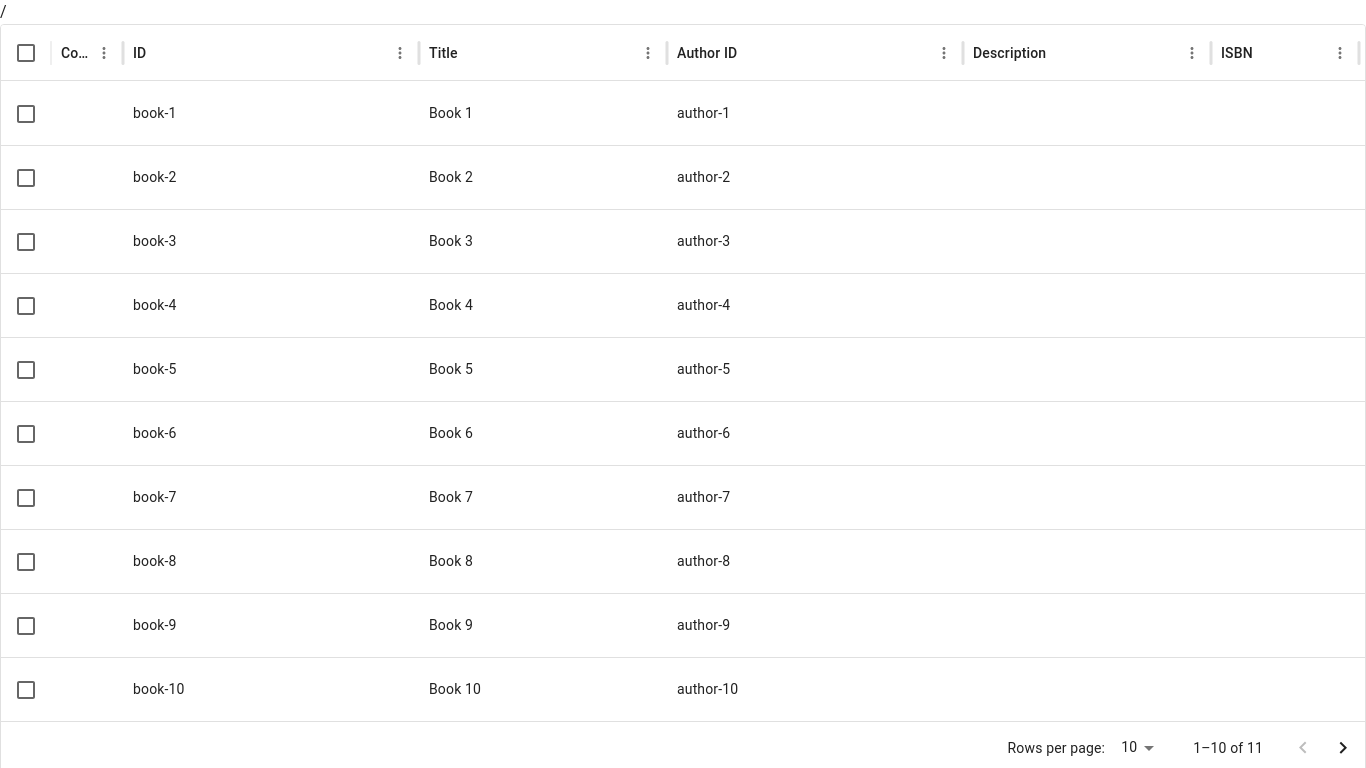
it: BooksTable › row selection › selects only the rows on the current page when selecting all
This screenshot has width=1366, height=768.
expect the text "Book 1" is shown: met, box [429,105,473,121]
Click the checkbox named "Select all rows". click: point(26, 52)
box: [14,40,38,64]
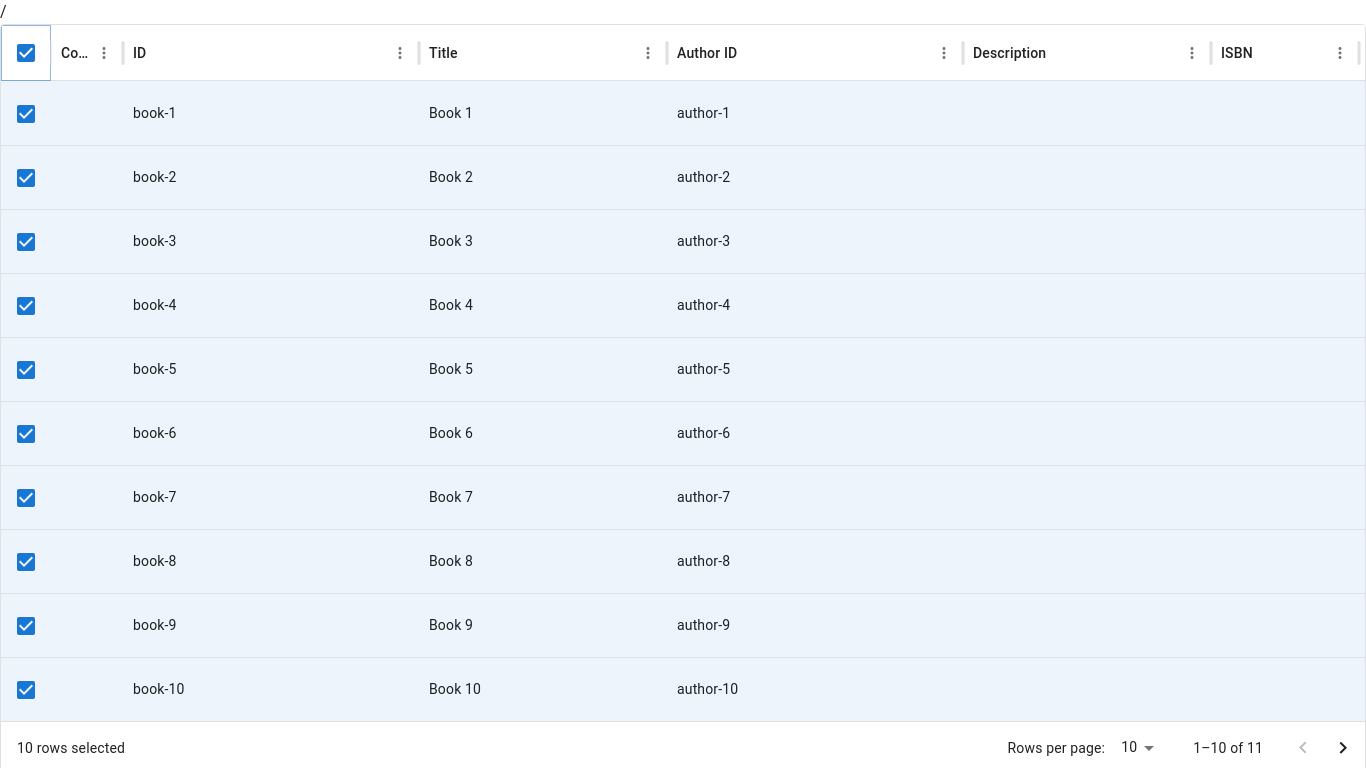
Click the button named "Go to next page". click: point(1343, 748)
box: [1323,728,1363,767]
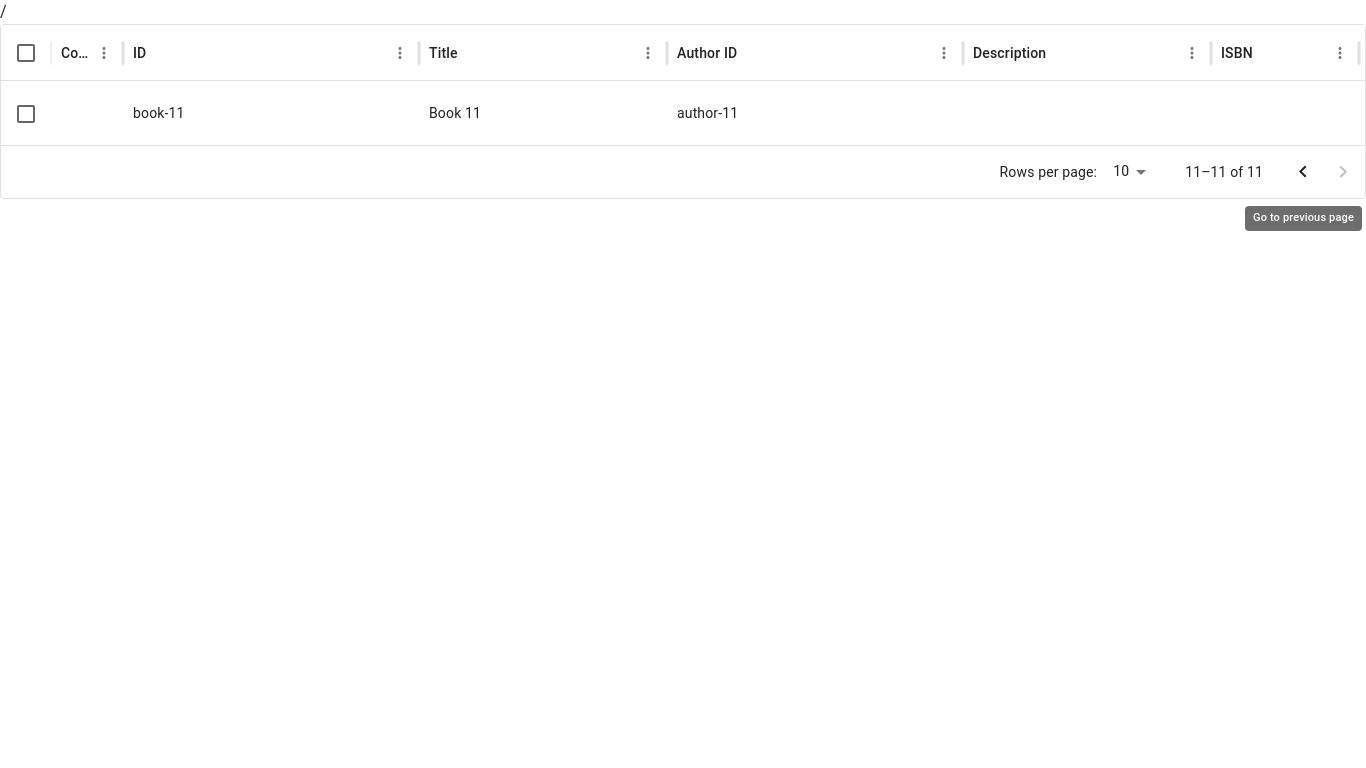
expect the text "Book 11" is shown: met, box [429,105,481,121]
expect the checkbox named "Select row" is not checked: met, box [14,102,38,126]
